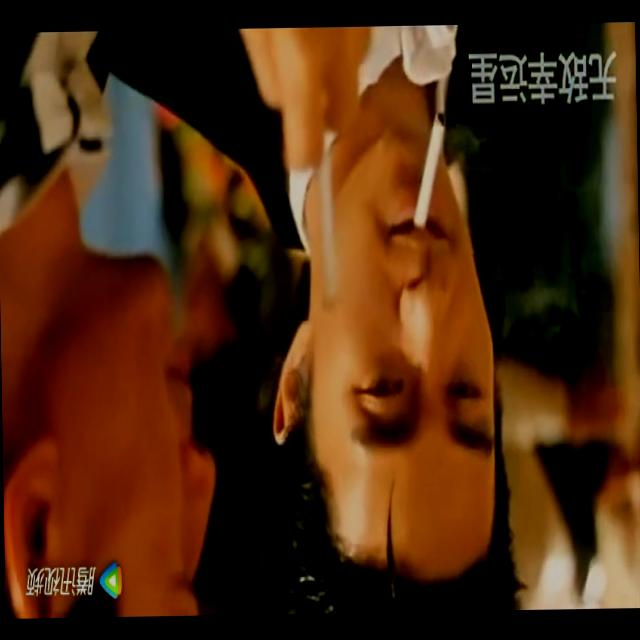smoke: (413, 112, 449, 222)
